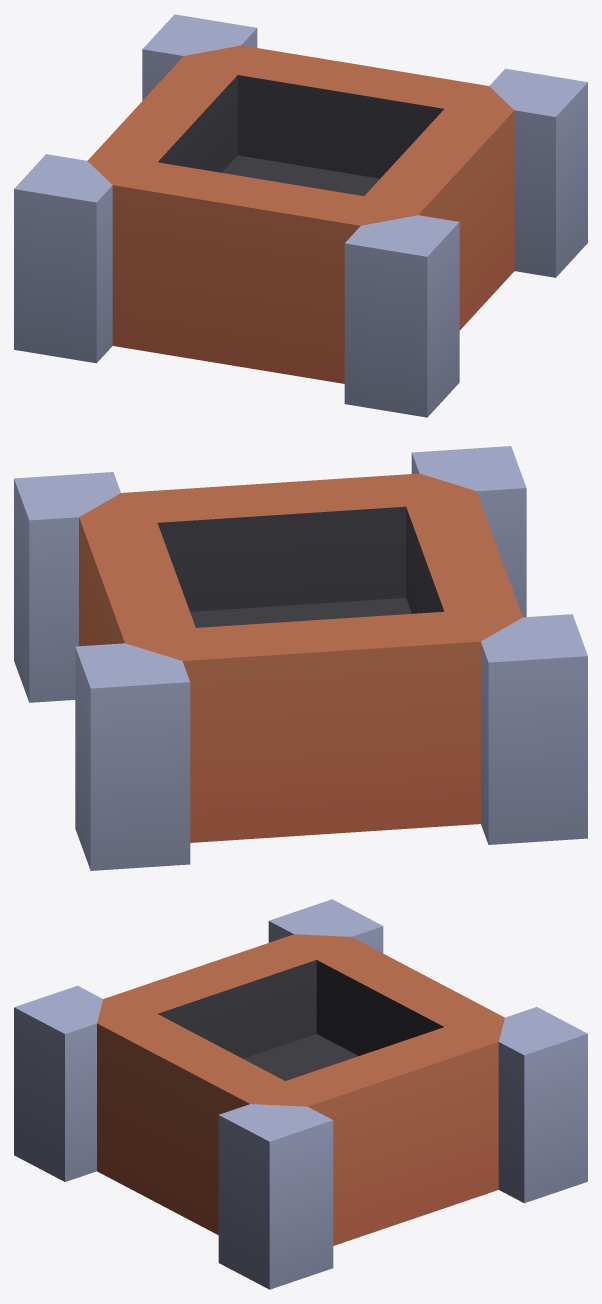
The model's file is chest_lev5.glb.
3 views of the same model, one above another, from view 1: azimuth 30°, elevation 25°; view 2: azimuth 150°, elevation 25°; view 3: azimuth 270°, elevation 25° (orthographic). The views are drawn at different scales.
Parts seen in each view (by area): view 1: chest_lev5; view 2: chest_lev5; view 3: chest_lev5.
Boxes of the visible parts, x1,y1,x2,y2 form: chest_lev5: [14, 14, 587, 417]; chest_lev5: [14, 446, 587, 870]; chest_lev5: [14, 899, 587, 1289].
Size of the model in its own units: 1.48 by 0.4225 by 1.48.
Materials: 1 (1 with a texture image).
